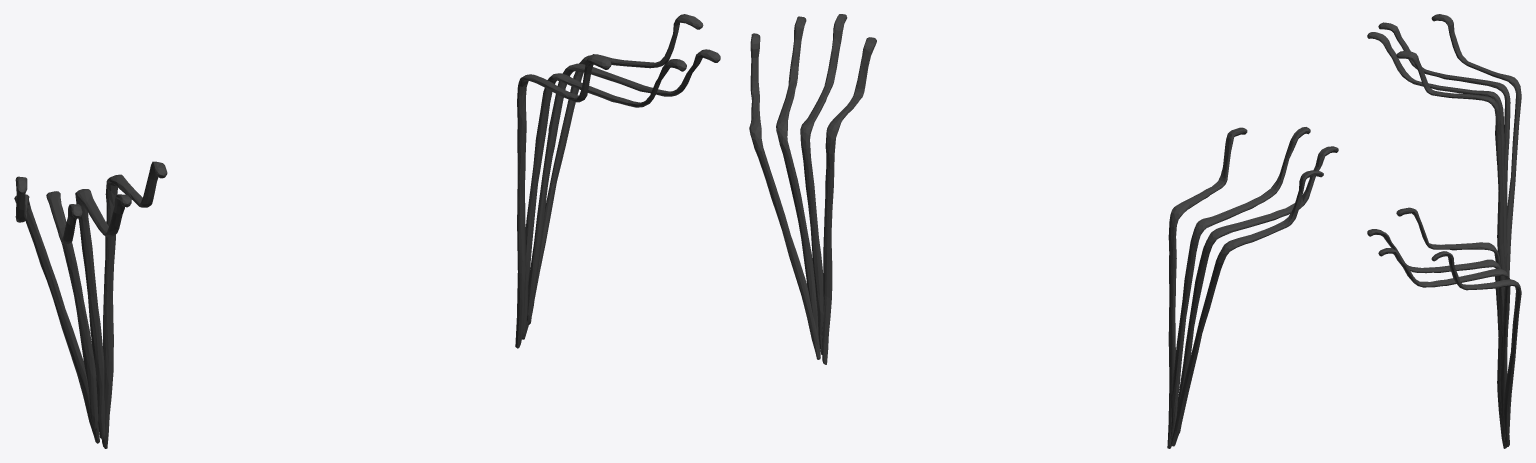
File: tend_DDF.glb
The picture shows the model from 3 angles, left to right: view 1: azimuth 30°, elevation 25°; view 2: azimuth 150°, elevation 25°; view 3: azimuth 270°, elevation 25°; orthographic projection. The views are drawn at different scales.
Visible parts, largest first — view 1: tend_DDF; view 2: tend_DDF; view 3: tend_DDF.
Boxes of the visible parts, x1=… form: tend_DDF: x1=14, y1=14, x2=720, y2=448; tend_DDF: x1=749, y1=14, x2=1338, y2=448; tend_DDF: x1=1367, y1=14, x2=1521, y2=448.
Size of the model in its own units: 0.07 by 0.033 by 0.0188.
1 material, 1 textured.
